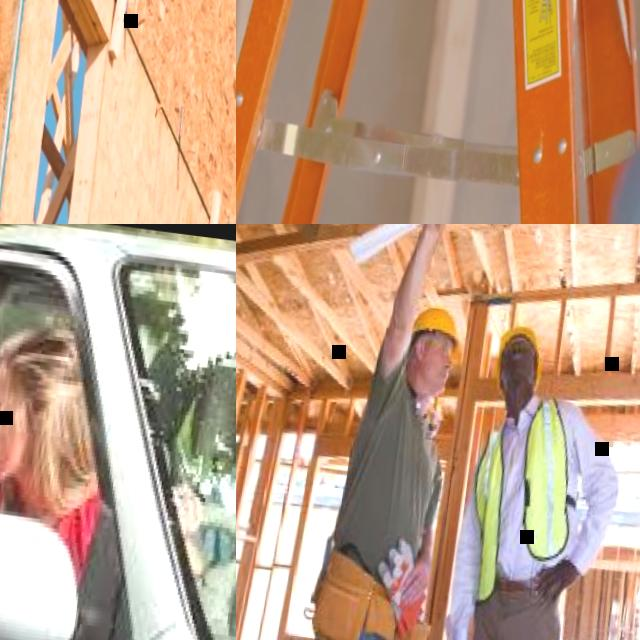Hardhat: (494, 321, 546, 390), (413, 304, 467, 340)
NO-Hardhat: (0, 320, 84, 406)
NO-Mask: (0, 426, 32, 480), (416, 357, 449, 397), (504, 353, 532, 381)
NO-Safety Vest: (336, 382, 443, 585)
Person: (299, 224, 487, 640), (434, 315, 640, 640), (0, 319, 225, 590), (193, 342, 236, 633)
Safety Vest: (463, 392, 583, 607)
vehicle: (0, 224, 236, 640)
